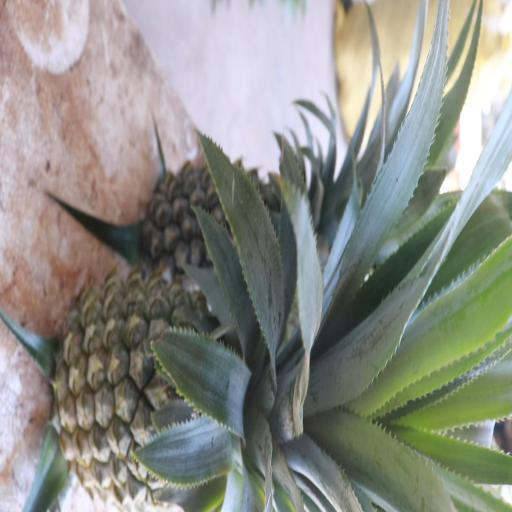------------------------------: (59, 276, 280, 496)
